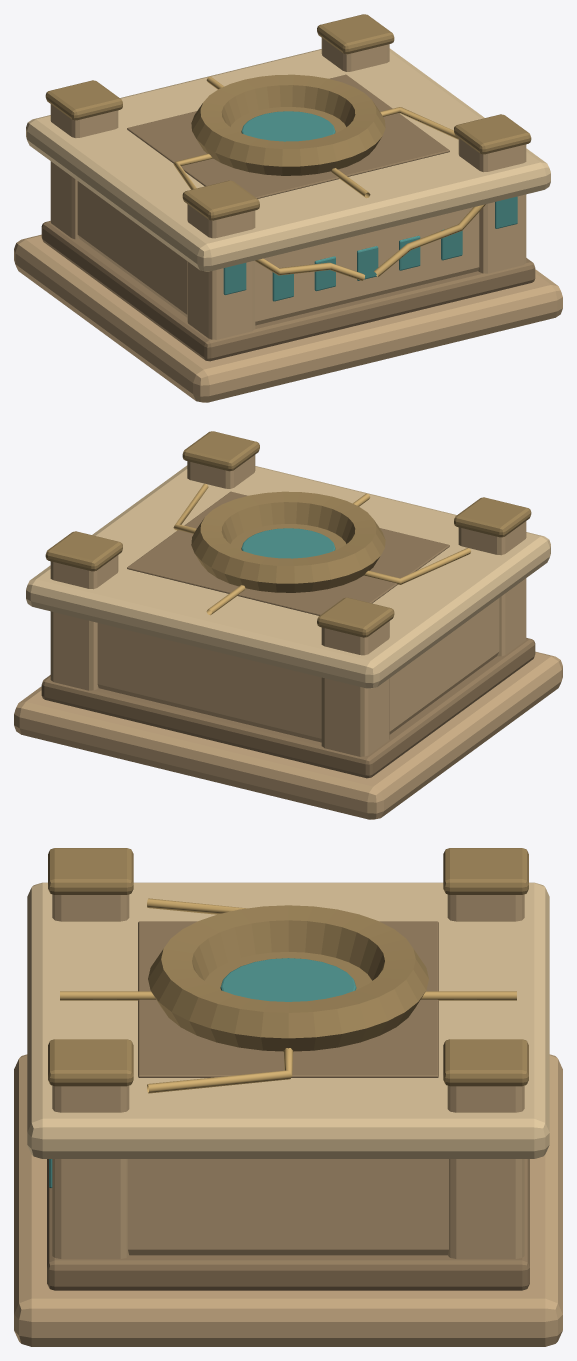
Rendered from OfferingAltar.fbx.
The picture shows the model from 3 angles, top to bottom: view 1: azimuth 30°, elevation 25°; view 2: azimuth 150°, elevation 25°; view 3: azimuth 270°, elevation 25°; orthographic projection. The views are drawn at different scales.
Visible parts, largest first — view 1: OfferingAltar; view 2: OfferingAltar; view 3: OfferingAltar.
Part boxes in pixels (x1,y1,x2,y2): OfferingAltar: (14, 14, 562, 402); OfferingAltar: (14, 431, 562, 819); OfferingAltar: (14, 848, 562, 1346).
Bounding box in the file's own units: 280 × 133 × 250.
